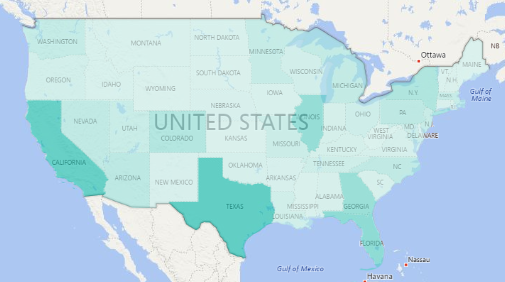

This screenshot's page, from the dashboard's own definition file:
{"tool":"powerbi","page":{"name":"Page 4","canvas":[1280,720],"ordinal":3},"visuals":[{"type":"filledMap","fields":{"Category":["wildlife-collisions.STATE"],"Size":["CountNonNull(wildlife-collisions.INCIDENT_DATE)"]},"box":[9.5,20.3,1127.3,672.8],"z":1}]}

Visuals, with their boxes in screenshot pixels (x1, y1, x2, y2), scaled from the page's 1280x720 canvas onto the 505x282 screenshot:
filledMap - wildlife-collisions.STATE x CountNonNull(wildlife-collisions.INCIDENT_DATE): Rect(4, 8, 449, 271)
